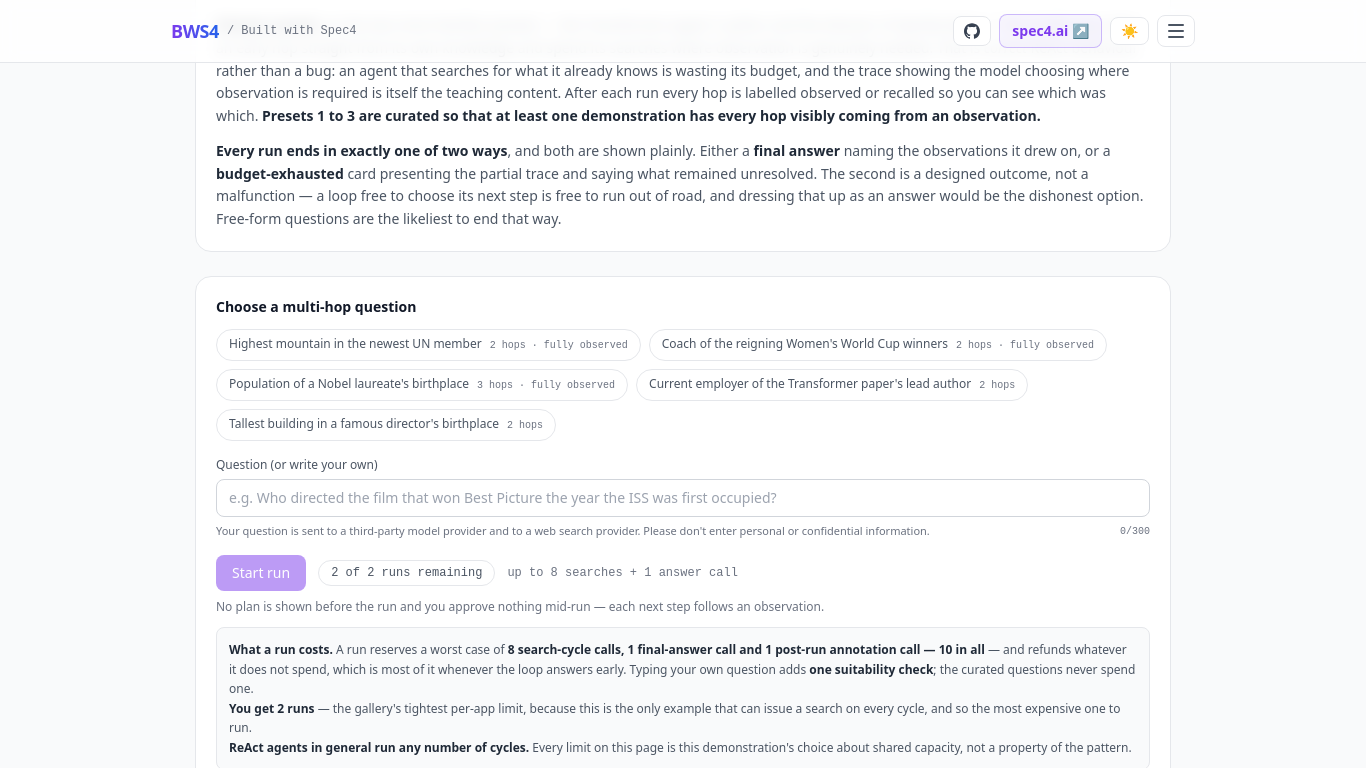
the /react screen › shows the chosen preset question verbatim
(page scrolled)
Click the button "Nobel laureate" at (422, 385), box top-left (216, 369), bottom-right (628, 401)
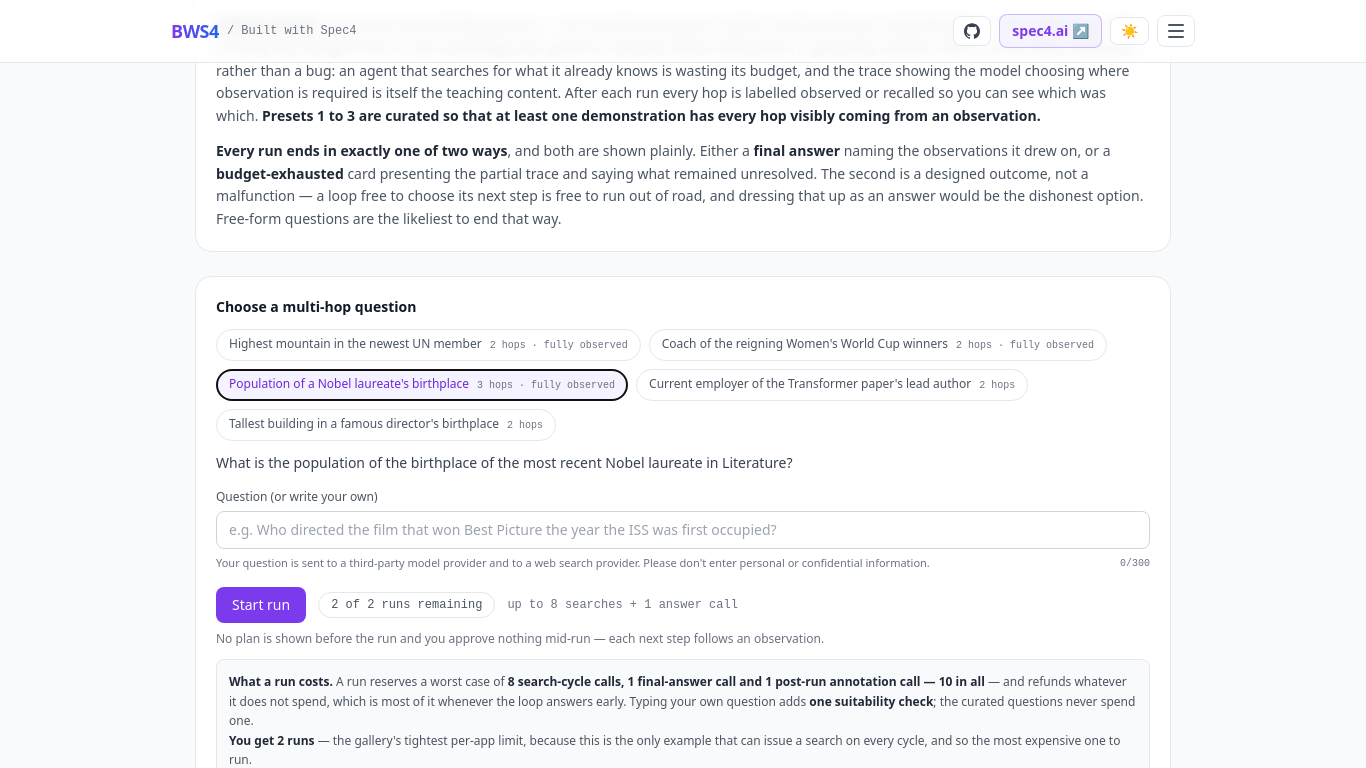
Result: the text with test id "react-selected-question" shows "What is the population of the birthplace of the most recent Nobel laureate in Literature?" at top-left (216, 453), bottom-right (792, 472)
